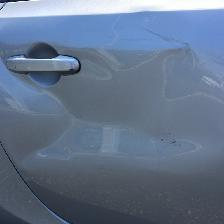dent: (31, 108, 97, 149)
